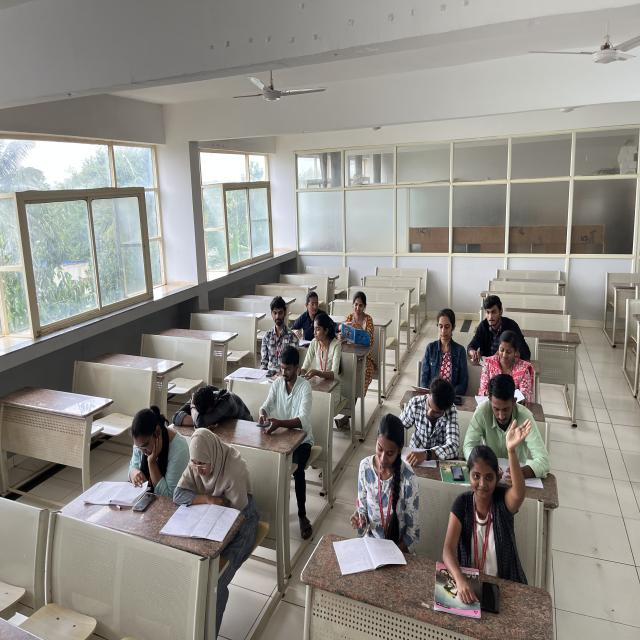Hand Rising: (465, 420, 530, 572)
Reading: (466, 374, 555, 486), (92, 405, 179, 495), (172, 432, 241, 528), (411, 304, 464, 395), (478, 332, 531, 408), (409, 379, 452, 469), (340, 292, 377, 349)
Sleeping: (174, 382, 250, 430)
Using Phone: (256, 351, 308, 437)
Writing: (350, 413, 413, 568)
